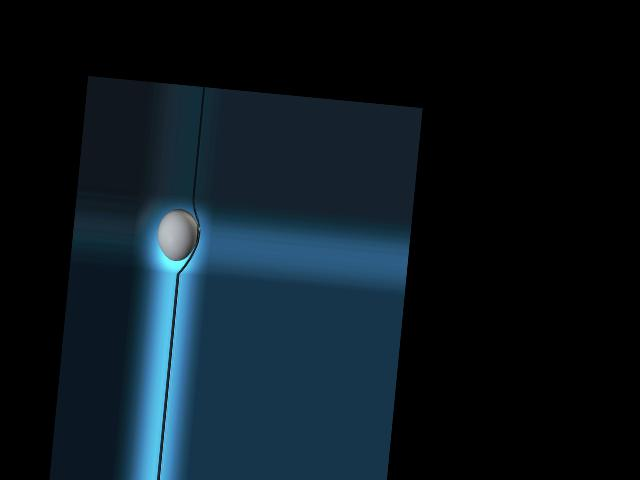egg: (156, 207, 200, 262)
